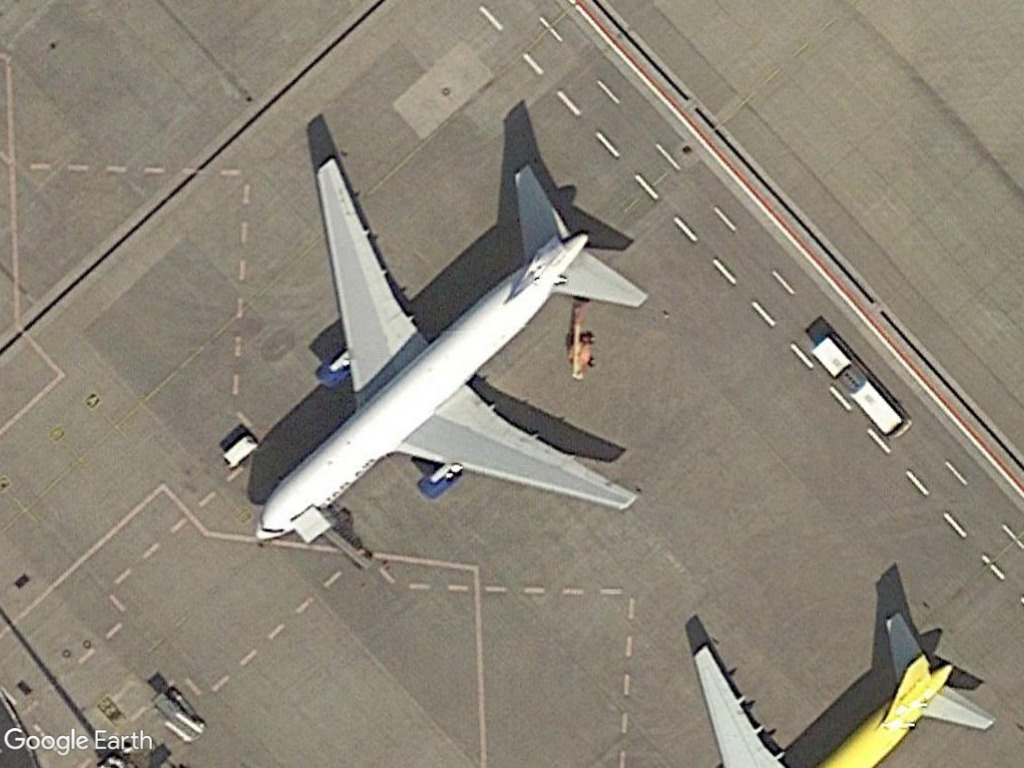airliner: (249, 148, 655, 549)
bus: (802, 330, 911, 445)
